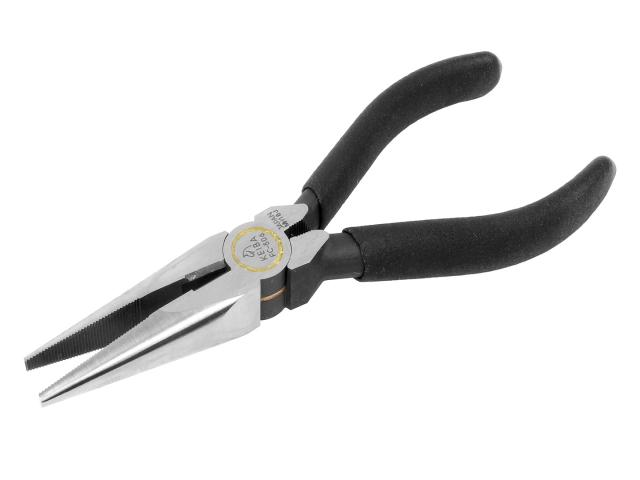Needle-nose pliers: (25, 52, 615, 405)
